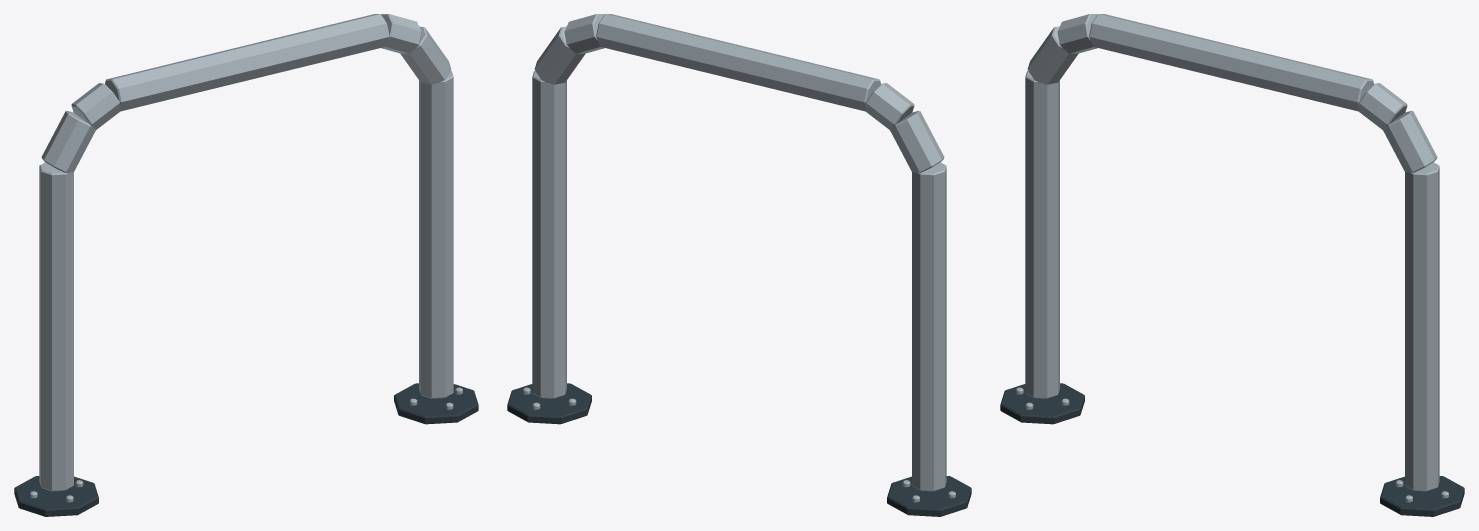
File: b01_inverted_u_bike_rack.glb
The picture shows the model from 3 angles, left to right: view 1: azimuth 30°, elevation 25°; view 2: azimuth 150°, elevation 25°; view 3: azimuth 330°, elevation 25°; orthographic projection.
Parts seen in each view (by area): view 1: b01_inverted_u_bike_rack; view 2: b01_inverted_u_bike_rack; view 3: b01_inverted_u_bike_rack.
Part boxes in pixels (box(x1,y1,x2,y2)): b01_inverted_u_bike_rack: box(14, 14, 478, 516); b01_inverted_u_bike_rack: box(507, 14, 971, 516); b01_inverted_u_bike_rack: box(1000, 14, 1464, 516).
Bounding box in the file's own units: 1.08 × 0.921 × 0.18.
